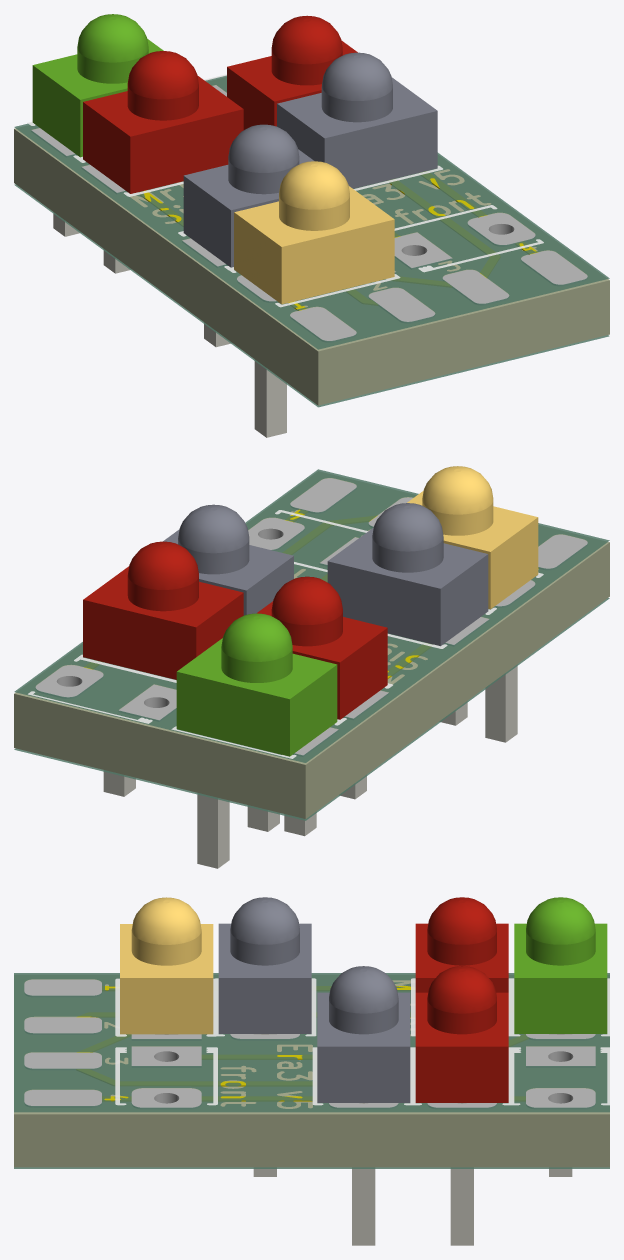
The model's file is MrJ-DB-Era3-prod-exit-test-w1.glb.
3 renders of one model, top to bottom at view 1: azimuth 30°, elevation 25°; view 2: azimuth 150°, elevation 25°; view 3: azimuth 270°, elevation 25°, orthographic. The views are drawn at different scales.
Parts seen in each view (by area): view 1: =>[0:1:1:15], =>[0:1:1:3] (×2), =>[0:1:1:9] (×2), =>[0:1:1:13], =>[0:1:1:7], =>[0:1:1:11], =>[0:1:1:5], =>[0:1:1:10], =>[0:1:1:12], =>[0:1:1:14]; view 2: =>[0:1:1:15], =>[0:1:1:3] (×2), =>[0:1:1:9] (×2), =>[0:1:1:5], =>[0:1:1:13], =>[0:1:1:7], =>[0:1:1:11], =>[0:1:1:12], =>[0:1:1:14], =>[0:1:1:10]; view 3: =>[0:1:1:15], =>[0:1:1:13], =>[0:1:1:9] (×2), =>[0:1:1:3] (×2), =>[0:1:1:11], =>[0:1:1:5], =>[0:1:1:7], =>[0:1:1:12], =>[0:1:1:10], =>[0:1:1:14].
Part boxes in pixels (box(x1,y1,x2,y2)): =>[0:1:1:15]: box(14, 77, 609, 405); =>[0:1:1:3] (×2): box(83, 15, 357, 273); =>[0:1:1:9] (×2): box(183, 52, 437, 347); =>[0:1:1:13]: box(14, 75, 609, 349); =>[0:1:1:7]: box(234, 161, 394, 437); =>[0:1:1:11]: box(31, 85, 587, 341); =>[0:1:1:5]: box(32, 14, 163, 236); =>[0:1:1:10]: box(140, 173, 537, 310); =>[0:1:1:12]: box(27, 74, 543, 307); =>[0:1:1:14]: box(14, 184, 609, 407); =>[0:1:1:15]: box(14, 471, 609, 818); =>[0:1:1:3] (×2): box(83, 541, 387, 831); =>[0:1:1:9] (×2): box(163, 503, 488, 725); =>[0:1:1:5]: box(176, 613, 337, 868); =>[0:1:1:13]: box(14, 469, 609, 762); =>[0:1:1:7]: box(407, 466, 538, 742); =>[0:1:1:11]: box(35, 478, 587, 756); =>[0:1:1:12]: box(28, 510, 543, 758); =>[0:1:1:14]: box(14, 598, 609, 820); =>[0:1:1:10]: box(84, 509, 538, 678); =>[0:1:1:15]: box(14, 975, 609, 1167); =>[0:1:1:13]: box(14, 973, 609, 1112); =>[0:1:1:9] (×2): box(218, 897, 410, 1245); =>[0:1:1:3] (×2): box(415, 897, 508, 1245); =>[0:1:1:11]: box(24, 979, 595, 1108); =>[0:1:1:5]: box(514, 897, 607, 1176); =>[0:1:1:7]: box(120, 897, 213, 1034); =>[0:1:1:12]: box(115, 978, 609, 1105); =>[0:1:1:10]: box(76, 986, 528, 1101); =>[0:1:1:14]: box(14, 1167, 609, 1168).
Bounding box in the file's own units: 0.00851 × 0.0071 × 0.0154.
